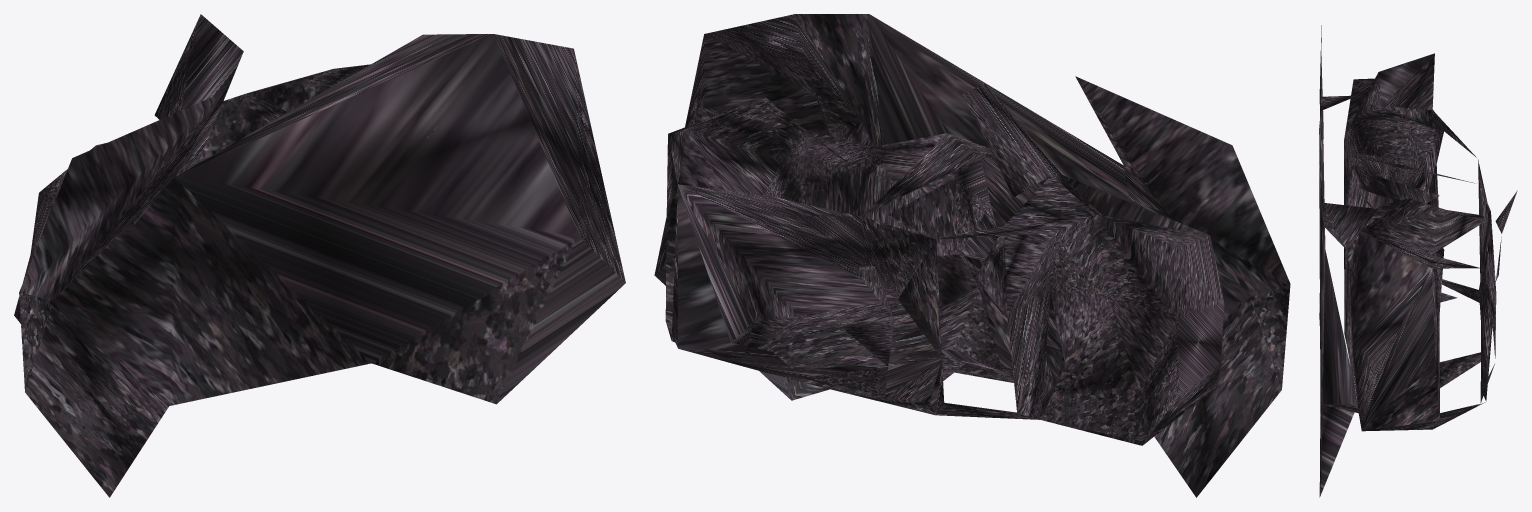
Rendered from car2.glb.
The picture shows the model from 3 angles, left to right: view 1: azimuth 30°, elevation 25°; view 2: azimuth 150°, elevation 25°; view 3: azimuth 270°, elevation 25°; orthographic projection. The views are drawn at different scales.
Parts seen in each view (by area): view 1: car2; view 2: car2; view 3: car2.
Boxes of the visible parts, <box> form: car2: <box>14,14,625,497</box>; car2: <box>654,14,1290,497</box>; car2: <box>1319,25,1517,497</box>.
Size of the model in its own units: 1.75 by 1.09 by 0.5669.
Materials: 1 (1 with a texture image).
